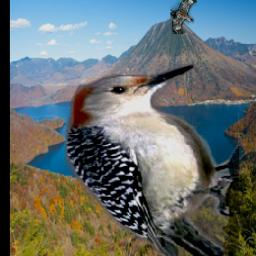Woodpecker: (66, 64, 240, 256), (171, 0, 198, 35)
